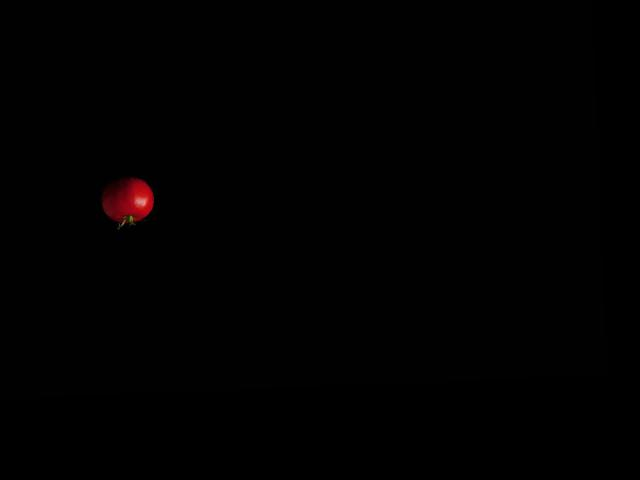tomato: (100, 177, 154, 223)
